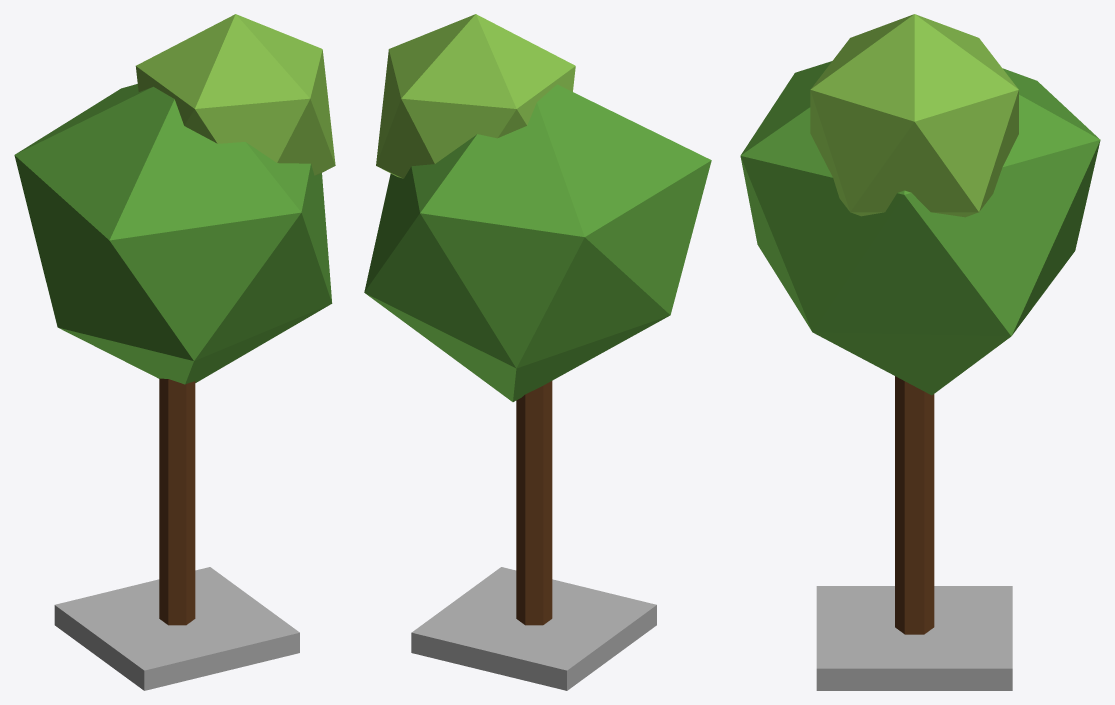
File: street_tree.glb
The picture shows the model from 3 angles, left to right: view 1: azimuth 30°, elevation 25°; view 2: azimuth 150°, elevation 25°; view 3: azimuth 270°, elevation 25°; orthographic projection. The views are drawn at different scales.
Parts seen in each view (by area): view 1: street_tree; view 2: street_tree; view 3: street_tree.
Part boxes in pixels (x1=…): street_tree: x1=14, y1=14, x2=335, y2=690; street_tree: x1=364, y1=14, x2=711, y2=690; street_tree: x1=740, y1=14, x2=1100, y2=690.
Size of the model in its own units: 1.41 by 3 by 1.47.
